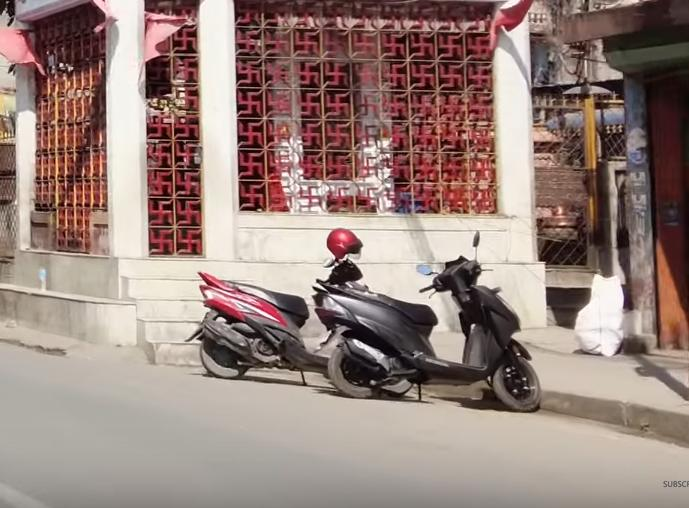scooter: (316, 247, 552, 415), (184, 256, 362, 385)
